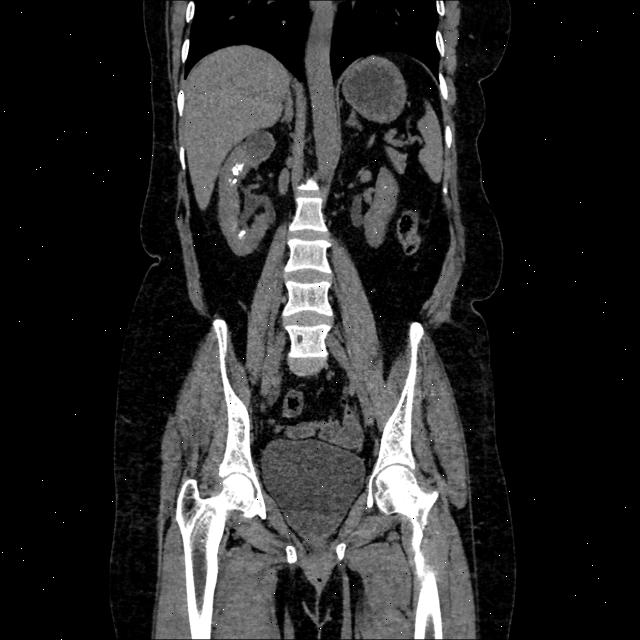kidneystone: (232, 164, 244, 176), (380, 184, 392, 191), (229, 177, 238, 184), (239, 230, 246, 238)
